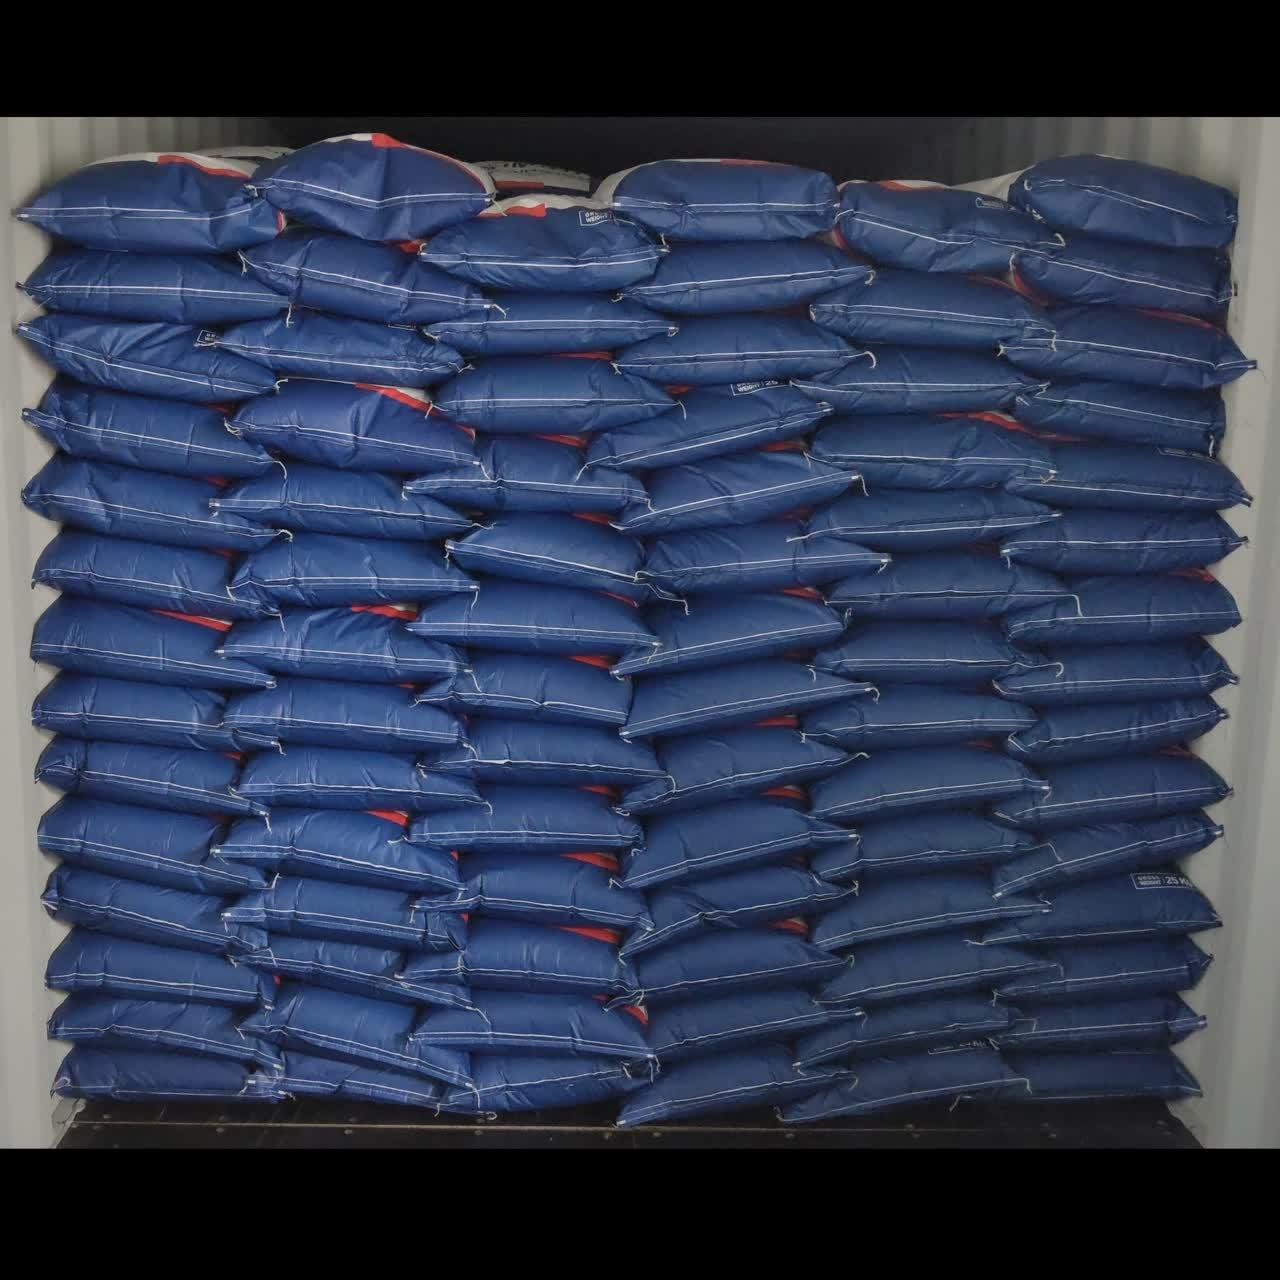sack: (953, 155, 1237, 261), (19, 147, 299, 253), (252, 134, 491, 241), (622, 784, 860, 889), (420, 191, 661, 293), (22, 455, 277, 551), (242, 227, 491, 325), (23, 379, 271, 477), (617, 436, 860, 536), (242, 986, 473, 1089), (229, 380, 475, 474), (19, 315, 274, 403), (836, 176, 1058, 277), (32, 597, 269, 691), (39, 797, 265, 894), (778, 1038, 1029, 1125), (622, 866, 858, 958), (1002, 306, 1253, 391), (615, 915, 846, 1006), (42, 865, 269, 956), (993, 807, 1224, 896), (587, 386, 828, 471), (34, 532, 271, 618), (22, 249, 289, 325), (618, 1043, 856, 1128), (1015, 234, 1230, 328), (813, 868, 1056, 951), (220, 810, 458, 894), (985, 863, 1225, 946), (811, 270, 1060, 349), (220, 462, 470, 540), (595, 161, 838, 241), (621, 660, 870, 738), (623, 728, 853, 812), (219, 309, 465, 387), (619, 593, 846, 676), (221, 603, 455, 683), (32, 674, 278, 750), (37, 738, 270, 818), (434, 357, 676, 434), (417, 854, 655, 932), (413, 989, 657, 1065), (624, 240, 871, 315), (995, 753, 1228, 832), (46, 930, 276, 1010), (409, 581, 654, 656), (811, 413, 1052, 489), (414, 436, 645, 515), (225, 875, 468, 950), (232, 533, 476, 607), (225, 678, 461, 754), (646, 520, 887, 594), (1006, 570, 1240, 646), (403, 918, 642, 992), (649, 983, 869, 1063), (617, 313, 859, 385), (229, 936, 470, 1006), (811, 748, 1035, 823), (447, 516, 649, 599), (49, 996, 277, 1069), (994, 640, 1234, 709), (792, 347, 1038, 414), (423, 290, 676, 355), (1007, 444, 1248, 512), (829, 552, 1062, 622), (418, 719, 660, 786), (817, 935, 1055, 1003), (238, 746, 478, 812), (797, 994, 1023, 1064), (955, 1045, 1204, 1108), (1010, 382, 1224, 455), (409, 786, 642, 853), (1001, 510, 1241, 575), (421, 654, 630, 728), (809, 490, 1053, 553), (815, 623, 1055, 687), (802, 686, 1034, 752), (812, 813, 1032, 882), (993, 936, 1214, 1004), (1007, 698, 1224, 764), (988, 994, 1206, 1053), (52, 1046, 280, 1102), (438, 1056, 655, 1114), (249, 1051, 442, 1108)
